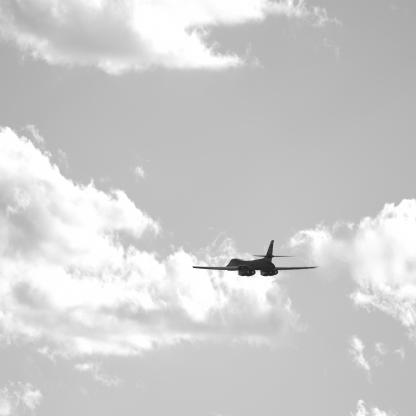B1: (193, 241, 321, 277)
